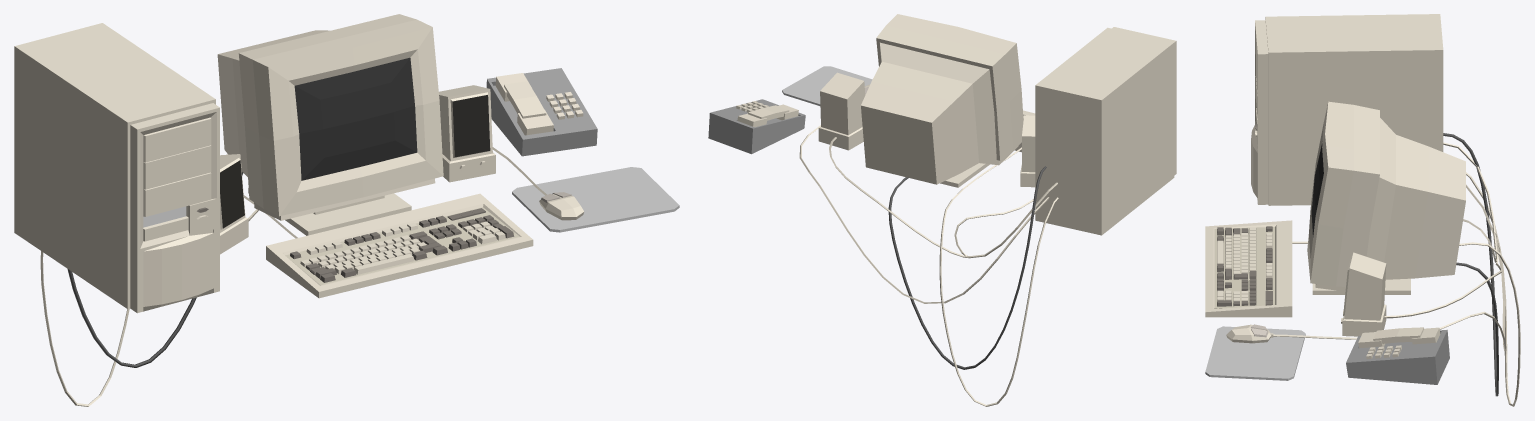
The picture shows the model from 3 angles, left to right: view 1: azimuth 30°, elevation 25°; view 2: azimuth 150°, elevation 25°; view 3: azimuth 270°, elevation 25°; orthographic projection. The views are drawn at different scales.
Parts seen in each view (by area): view 1: Computer_case, Computer_monitor.001, Keyboard, Mousepad, Phone_stand, SpeakerL, SpeakerR, Phonehandle, KeyboardCable, Monitor_cable, Mouse; view 2: Computer_case, Computer_monitor.001, SpeakerL, Phone_stand, Monitor_cable, KeyboardCable, Mousepad, Speakers_cable, SpeakerR, Mouse_cord, Phonehandle; view 3: Computer_case, Computer_monitor.001, Keyboard, Mousepad, Phone_stand, SpeakerL, Phonehandle, Monitor_cable, KeyboardCable, Speakers_cable, Mouse_cord, Mouse.
Boxes of the visible parts, x1,y1,x2,y2 form: Computer_case: [14, 23, 219, 313]; Computer_monitor.001: [217, 14, 443, 235]; Keyboard: [266, 193, 533, 298]; Mousepad: [512, 167, 679, 232]; Phone_stand: [486, 68, 597, 156]; SpeakerL: [439, 85, 495, 182]; SpeakerR: [220, 154, 248, 254]; Phonehandle: [495, 73, 553, 135]; KeyboardCable: [40, 195, 297, 406]; Monitor_cable: [67, 172, 243, 367]; Mouse: [539, 192, 584, 220]; Computer_case: [1035, 27, 1176, 235]; Computer_monitor.001: [861, 14, 1023, 187]; SpeakerL: [818, 72, 865, 150]; Phone_stand: [708, 99, 805, 154]; Monitor_cable: [888, 166, 1046, 369]; KeyboardCable: [939, 147, 1058, 406]; Mousepad: [782, 66, 872, 105]; Speakers_cable: [829, 137, 1057, 258]; SpeakerR: [1020, 115, 1035, 187]; Mouse_cord: [799, 125, 1049, 303]; Phonehandle: [737, 104, 798, 127]; Computer_case: [1251, 14, 1443, 205]; Computer_monitor.001: [1307, 101, 1465, 294]; Keyboard: [1205, 220, 1292, 317]; Mousepad: [1205, 326, 1305, 380]; Phone_stand: [1346, 329, 1449, 384]; SpeakerL: [1341, 252, 1386, 336]; Phonehandle: [1358, 327, 1440, 347]; Monitor_cable: [1443, 133, 1498, 396]; KeyboardCable: [1292, 172, 1520, 406]; Speakers_cable: [1384, 142, 1502, 318]; Mouse_cord: [1273, 184, 1506, 351]; Mouse: [1226, 324, 1273, 343].
Size of the model in its own units: 1.88 by 1.39 by 1.15.
Materials: 1 (1 with a texture image).
